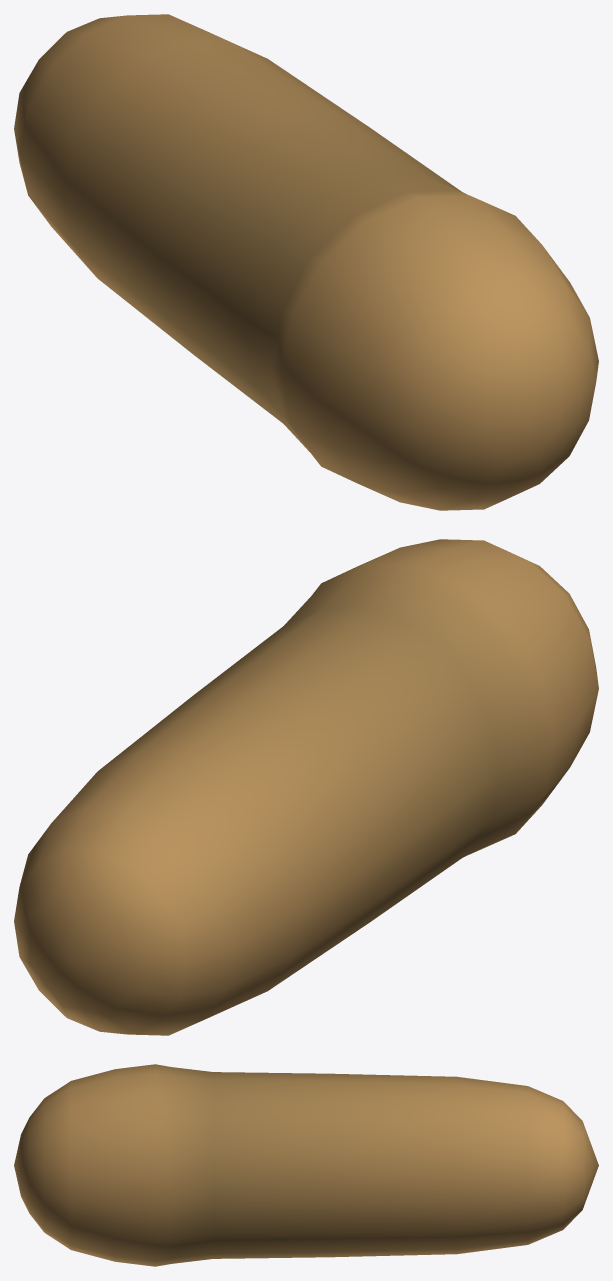
Rendered from microscopic-bacteria-dividing-bacterium_v1.glb.
The picture shows the model from 3 angles, top to bottom: view 1: azimuth 30°, elevation 25°; view 2: azimuth 150°, elevation 25°; view 3: azimuth 270°, elevation 25°; orthographic projection. The views are drawn at different scales.
Visible parts, largest first — view 1: Dividing Bacterium_v1; view 2: Dividing Bacterium_v1; view 3: Dividing Bacterium_v1.
Part boxes in pixels (<box>): Dividing Bacterium_v1: <box>14,14,598,510</box>; Dividing Bacterium_v1: <box>14,539,598,1035</box>; Dividing Bacterium_v1: <box>14,1064,598,1266</box>.
Size of the model in its own units: 0.1738 by 0.1738 by 0.5.
